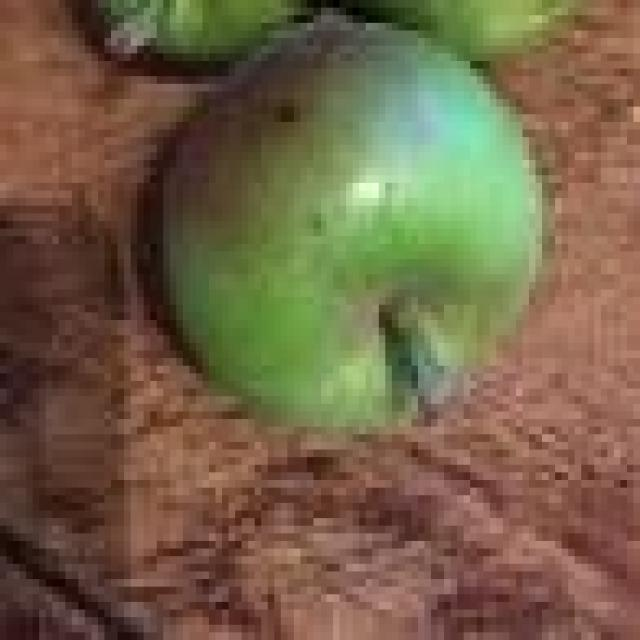Unripe: (157, 15, 544, 429)
